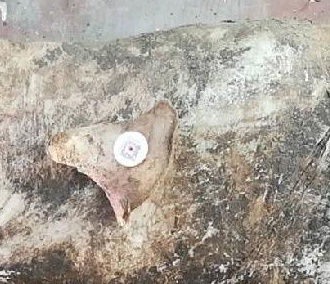text: (96, 117, 168, 179)
